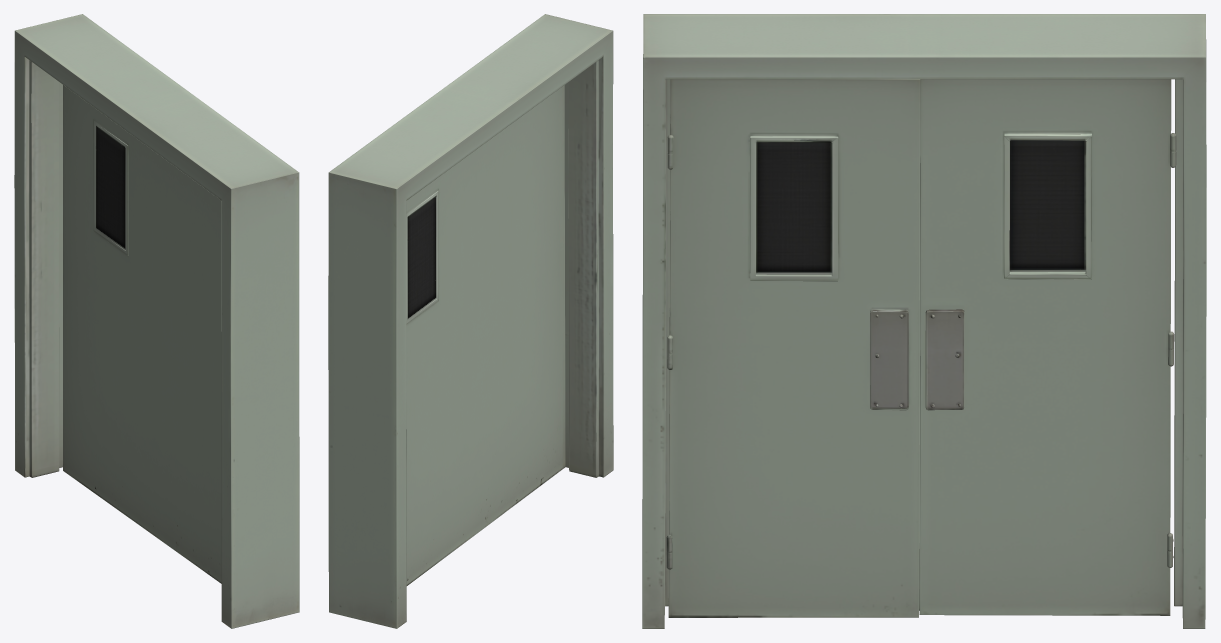
3 renders of one model, left to right at view 1: azimuth 30°, elevation 25°; view 2: azimuth 150°, elevation 25°; view 3: azimuth 270°, elevation 25°, orthographic. The views are drawn at different scales.
Visible parts, largest first — view 1: tripo_node_f4a257ba; view 2: tripo_node_f4a257ba; view 3: tripo_node_f4a257ba.
Part boxes in pixels (x1,y1,x2,y2): tripo_node_f4a257ba: [14, 14, 299, 628]; tripo_node_f4a257ba: [328, 14, 613, 628]; tripo_node_f4a257ba: [642, 14, 1206, 628].
Bounding box in the file's own units: 0.1626 × 0.9995 × 0.894.
Materials: 1 (1 with a texture image).
